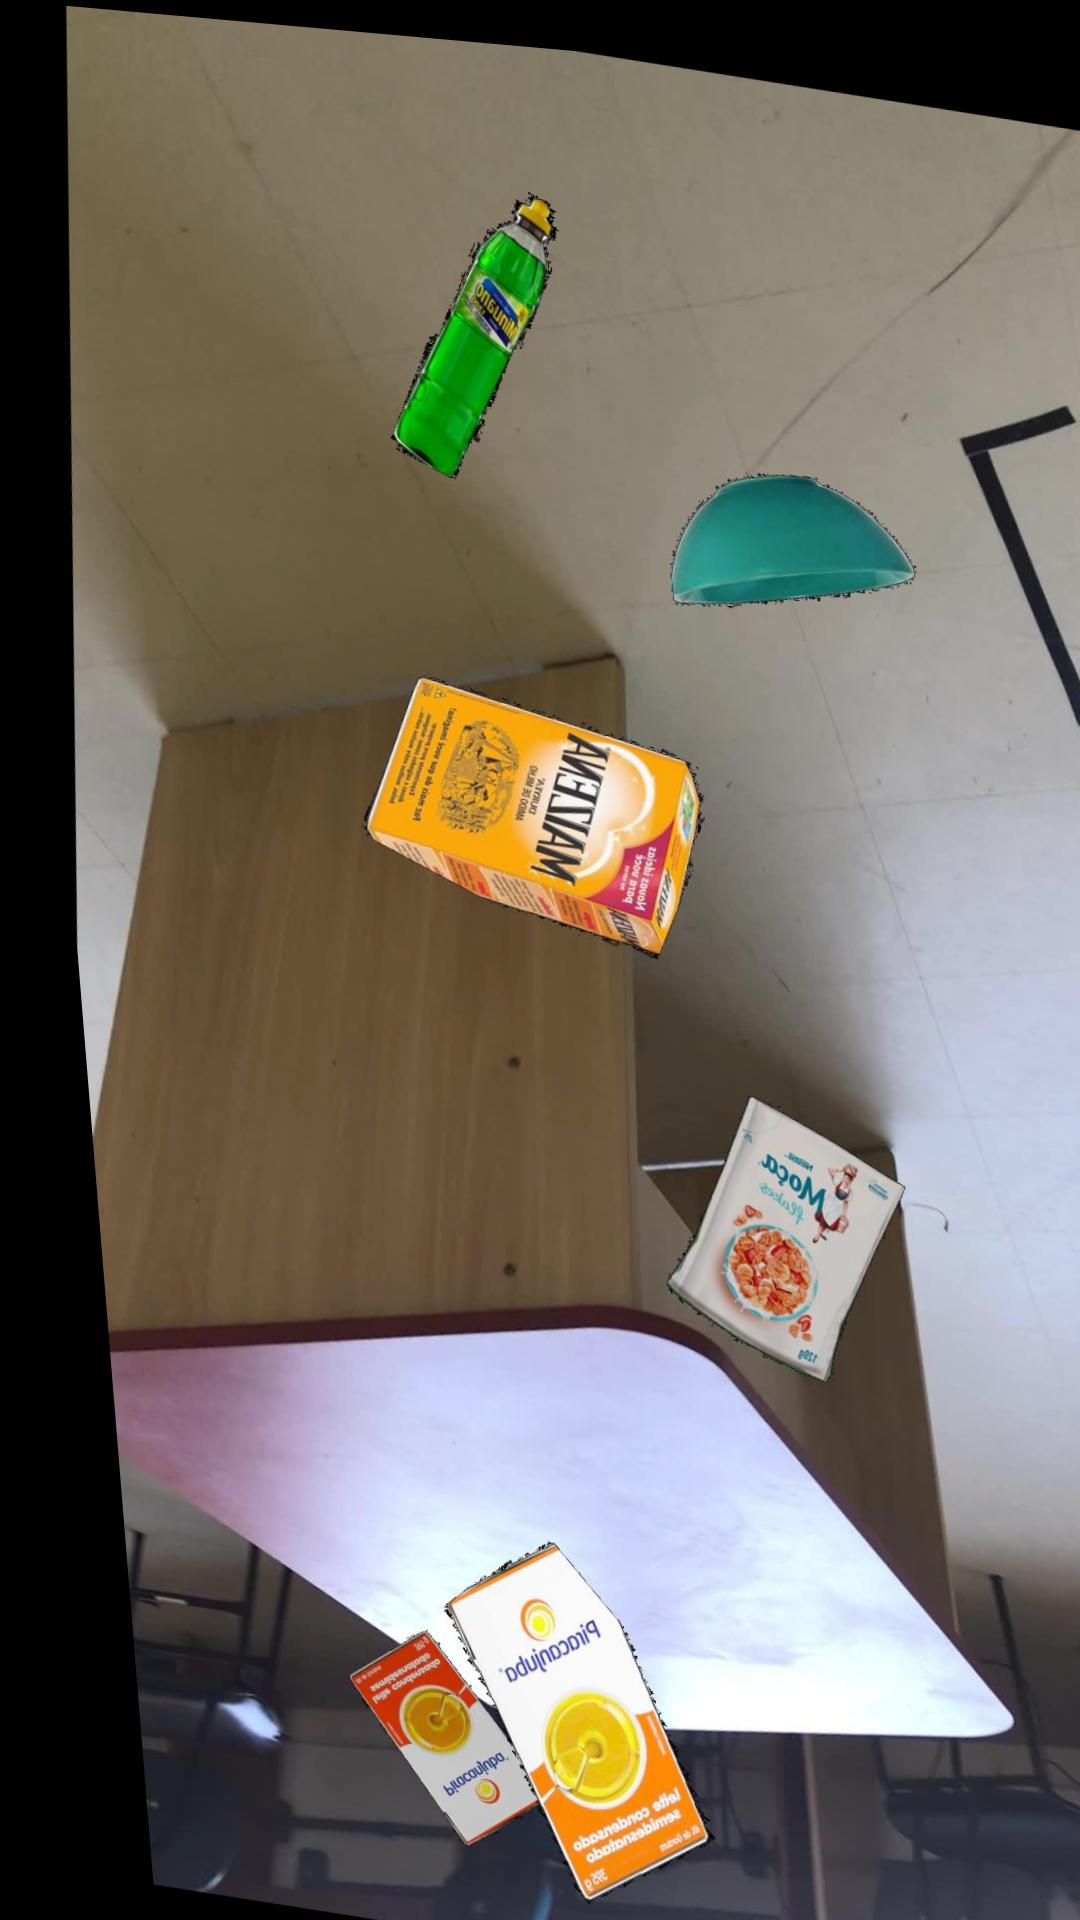bowl: (663, 462, 907, 596)
cleaner: (385, 186, 555, 472)
corn flakes: (646, 1085, 886, 1370)
